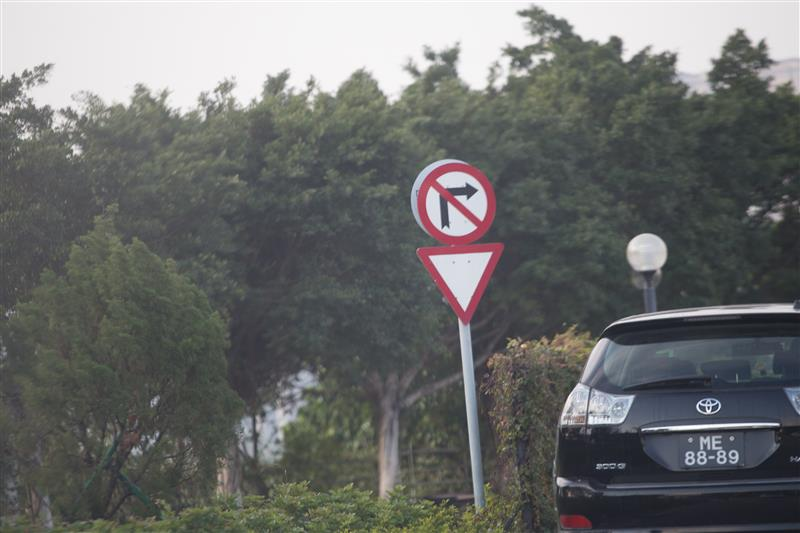noRightTurn: (414, 161, 497, 245)
yield: (413, 243, 508, 326)
